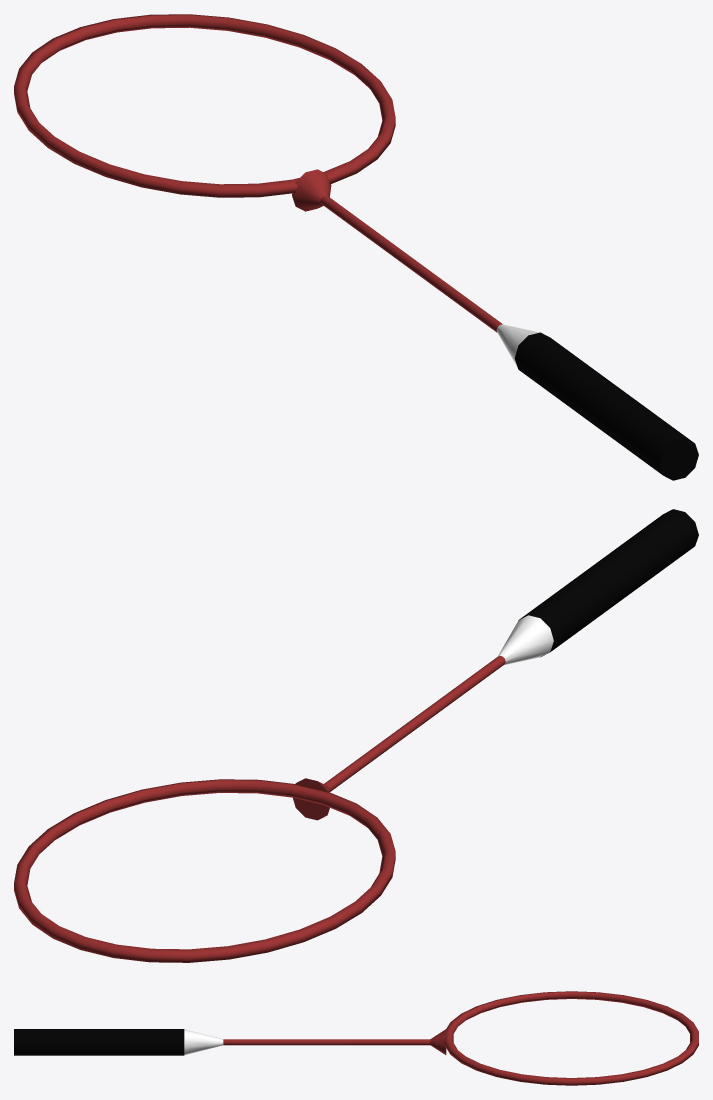
Rendered from Badminton racket.obj.
3 renders of one model, top to bottom at view 1: azimuth 30°, elevation 25°; view 2: azimuth 150°, elevation 25°; view 3: azimuth 270°, elevation 25°, orthographic. The views are drawn at different scales.
Parts seen in each view (by area): view 1: 004_Torus, 000_Cylinder_1, 003_Cylinder, 002_Cone_1; view 2: 004_Torus, 000_Cylinder_1, 003_Cylinder, 001_Cone, 002_Cone_1; view 3: 004_Torus, 000_Cylinder_1, 003_Cylinder, 001_Cone, 002_Cone_1.
Boxes of the visible parts, left/top/right/bottom form: 004_Torus: left=14, top=14, right=395, bottom=197; 000_Cylinder_1: left=514, top=332, right=698, bottom=480; 003_Cylinder: left=320, top=195, right=502, bottom=332; 002_Cone_1: left=292, top=169, right=331, bottom=211; 004_Torus: left=14, top=779, right=395, bottom=962; 000_Cylinder_1: left=518, top=509, right=698, bottom=657; 003_Cylinder: left=307, top=656, right=505, bottom=804; 001_Cone: left=497, top=615, right=553, bottom=664; 002_Cone_1: left=293, top=778, right=329, bottom=820; 004_Torus: left=444, top=991, right=698, bottom=1085; 000_Cylinder_1: left=14, top=1029, right=184, bottom=1055; 003_Cylinder: left=223, top=1039, right=430, bottom=1045; 001_Cone: left=184, top=1029, right=223, bottom=1055; 002_Cone_1: left=430, top=1029, right=446, bottom=1054.
Size of the model in its own units: 206 by 24.73 by 664.
